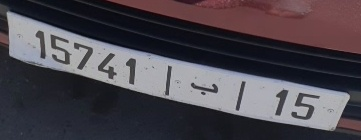1: (122, 53, 142, 87), (34, 30, 47, 62), (275, 85, 288, 116)
4: (96, 51, 119, 81)
5: (292, 92, 319, 120), (49, 34, 71, 66)
7: (72, 40, 93, 71)
b: (187, 77, 221, 100)
